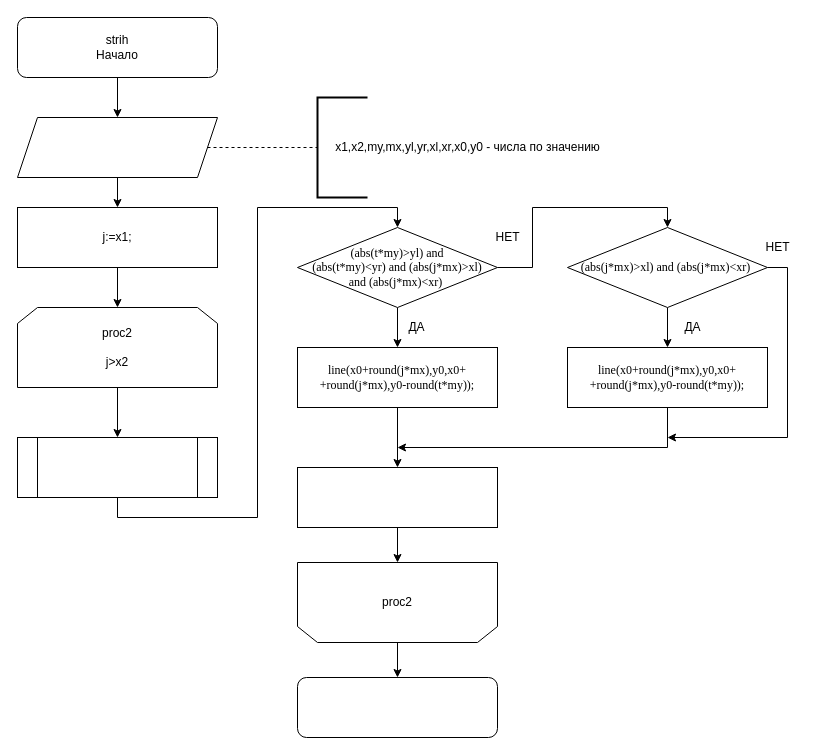
Image size: 815x755. Some labels were removed from this diagram. Each missing label, with the centre of its shape:
"j:=j+0.2;" belongs at [397,497].
"t:=Fx(j);" belongs at [117,467].
"x1,x2,my,mx,yl,yr,xl,xr,x0,y0" belongs at [117,147].
"Конец strih" belongs at [397,707].
